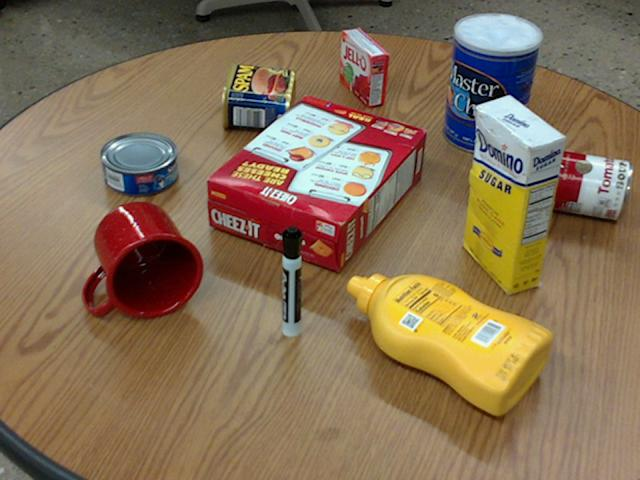cracker_box: (205, 96, 425, 271)
gelatin_box: (340, 28, 388, 105)
large_marker: (280, 225, 300, 336)
master_chef_can: (443, 13, 541, 153)
mug: (82, 202, 201, 318)
mustard_bottle: (346, 274, 550, 413)
potted_meat_can: (220, 61, 294, 129)
sugar_box: (464, 95, 563, 294)
tomato_soup_can: (526, 145, 629, 218)
tuna_fish_can: (99, 131, 176, 194)
